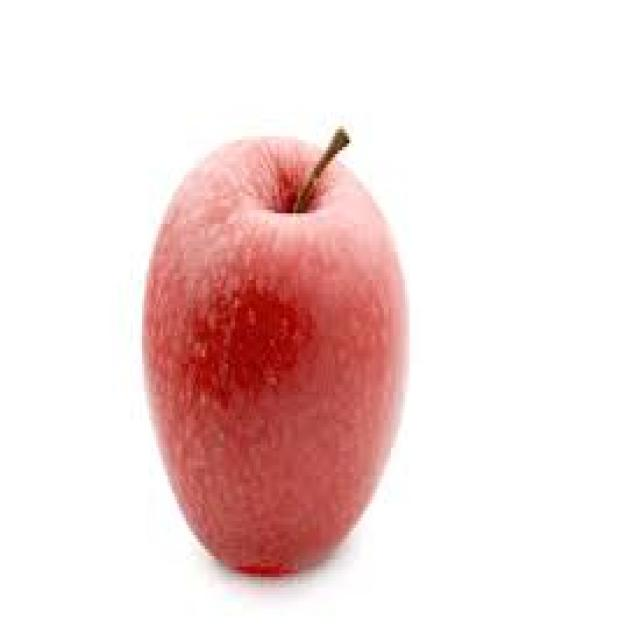organic waste: (138, 122, 408, 588)
